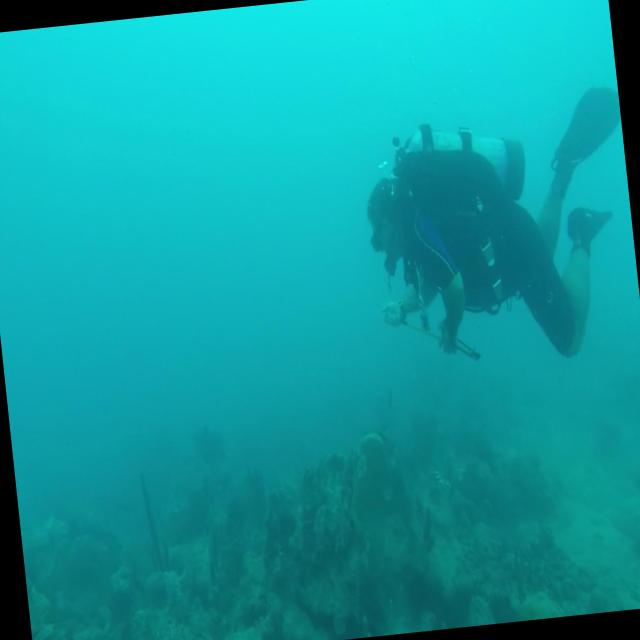human: (355, 79, 640, 376)
